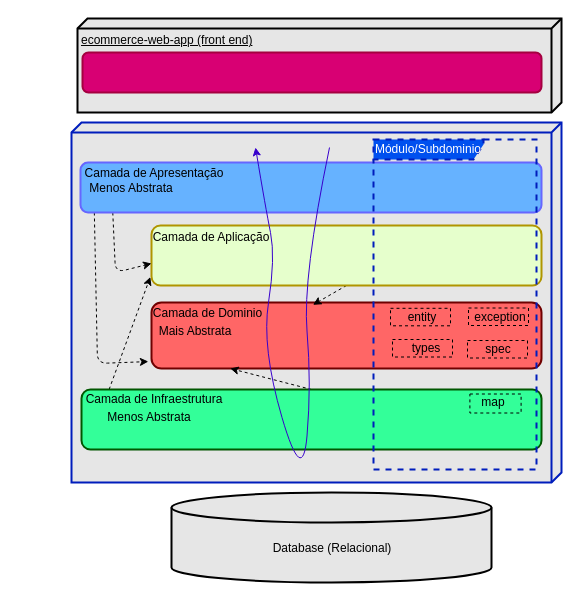
Image size: 579x605. Some labels were removed from this diagram. The shapes that lost their labels are listed below. From the top down, each one's box as (x1, y1, x2, y2) in pixels, then its label:
(81, 51, 542, 93): Interface de Usuário
(70, 121, 562, 483): ecommerce-node-api (back end)
